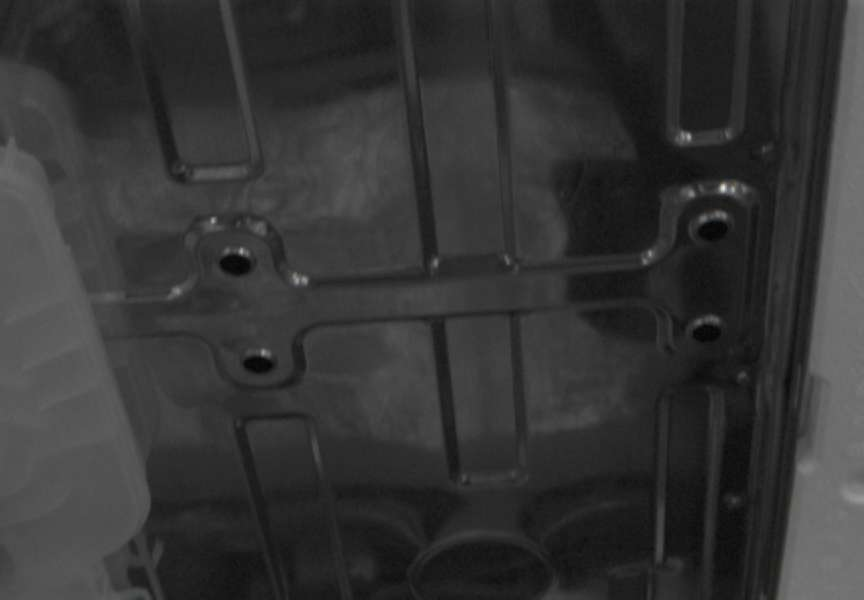missing_component: (188, 215, 302, 388), (662, 188, 757, 355)
missing_screw: (213, 238, 258, 280), (690, 206, 734, 248), (235, 339, 278, 379), (685, 311, 729, 346)
